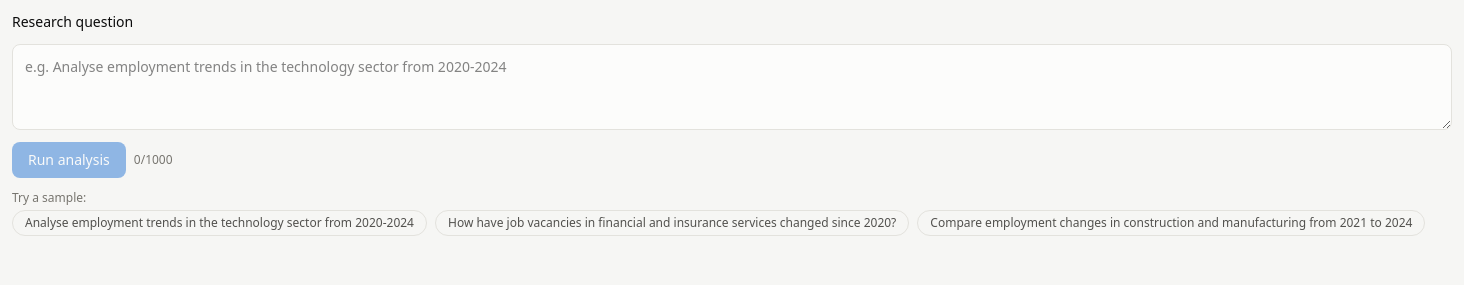
Test: QueryForm › shows the API's error and lets the user retry
The width and height of the screenshot is (1464, 285).
Replace the text in the text box labelled "Research question" with "ICT jobs since 2020" at (732, 87), box x1=12 y1=44 x2=1452 y2=130
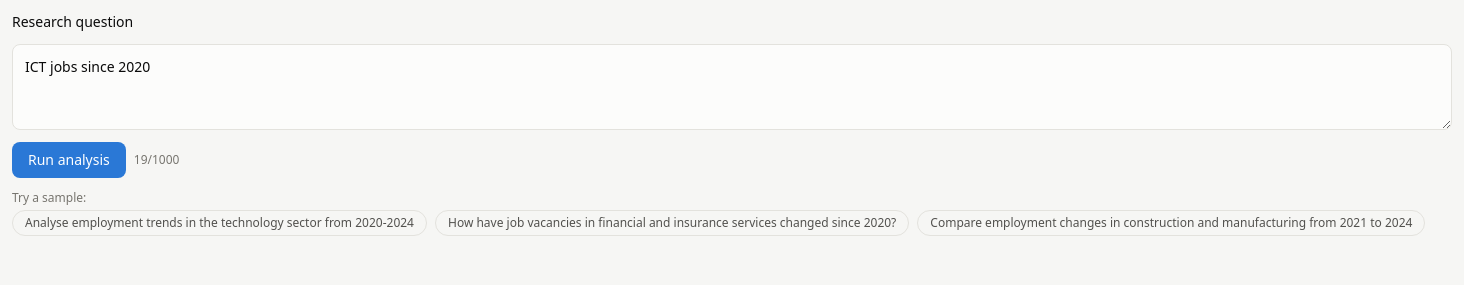
Click the button "Run analysis" at (69, 160), box x1=12 y1=142 x2=126 y2=178
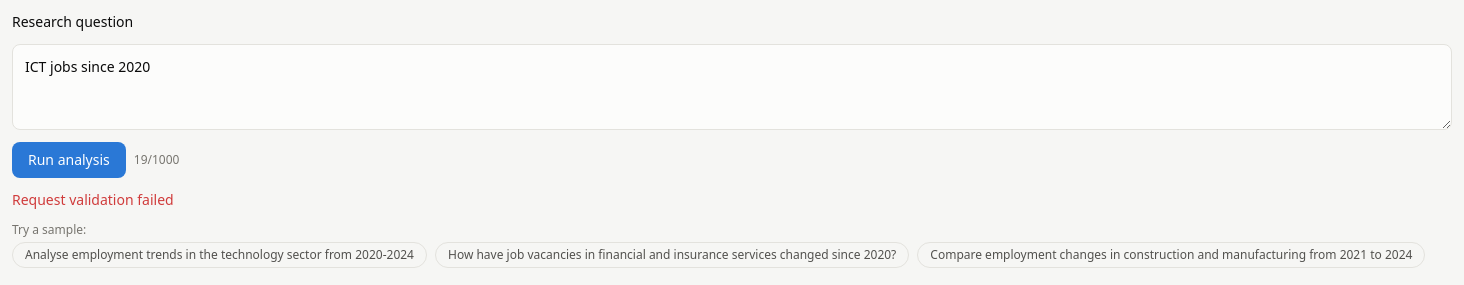
Now the button "Run analysis" is enabled, box x1=12 y1=142 x2=126 y2=178
Now the message reads "Request validation failed", box x1=12 y1=190 x2=174 y2=209
